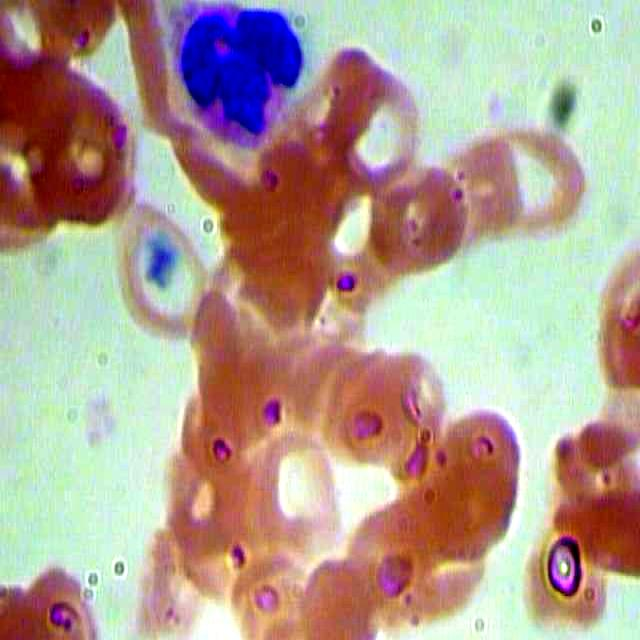RBC: (323, 330, 449, 470), (421, 402, 528, 558), (29, 86, 141, 226), (365, 145, 474, 287), (484, 107, 593, 248), (321, 52, 424, 195), (250, 417, 348, 559), (158, 423, 256, 564), (514, 491, 612, 632), (111, 198, 205, 338)
WBC: (172, 1, 304, 156)
